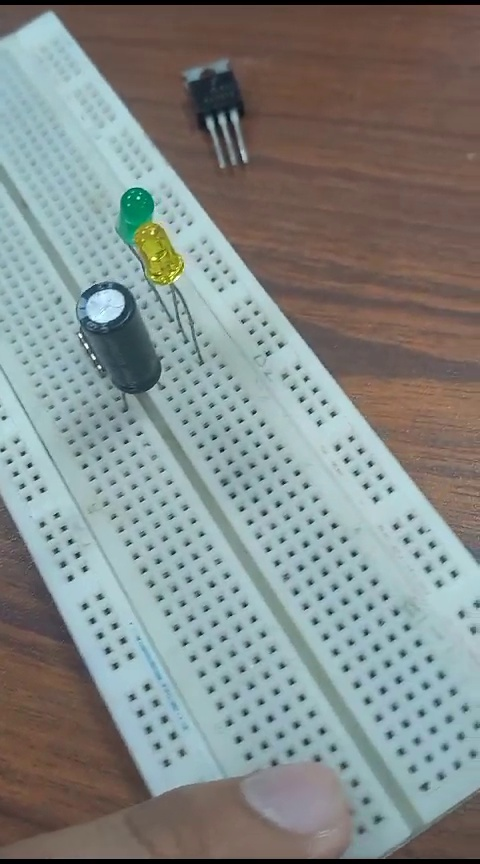LED: (135, 225, 208, 372), (111, 187, 156, 240)
capacitor: (66, 283, 167, 412)
voltage regulator: (170, 53, 262, 173)
